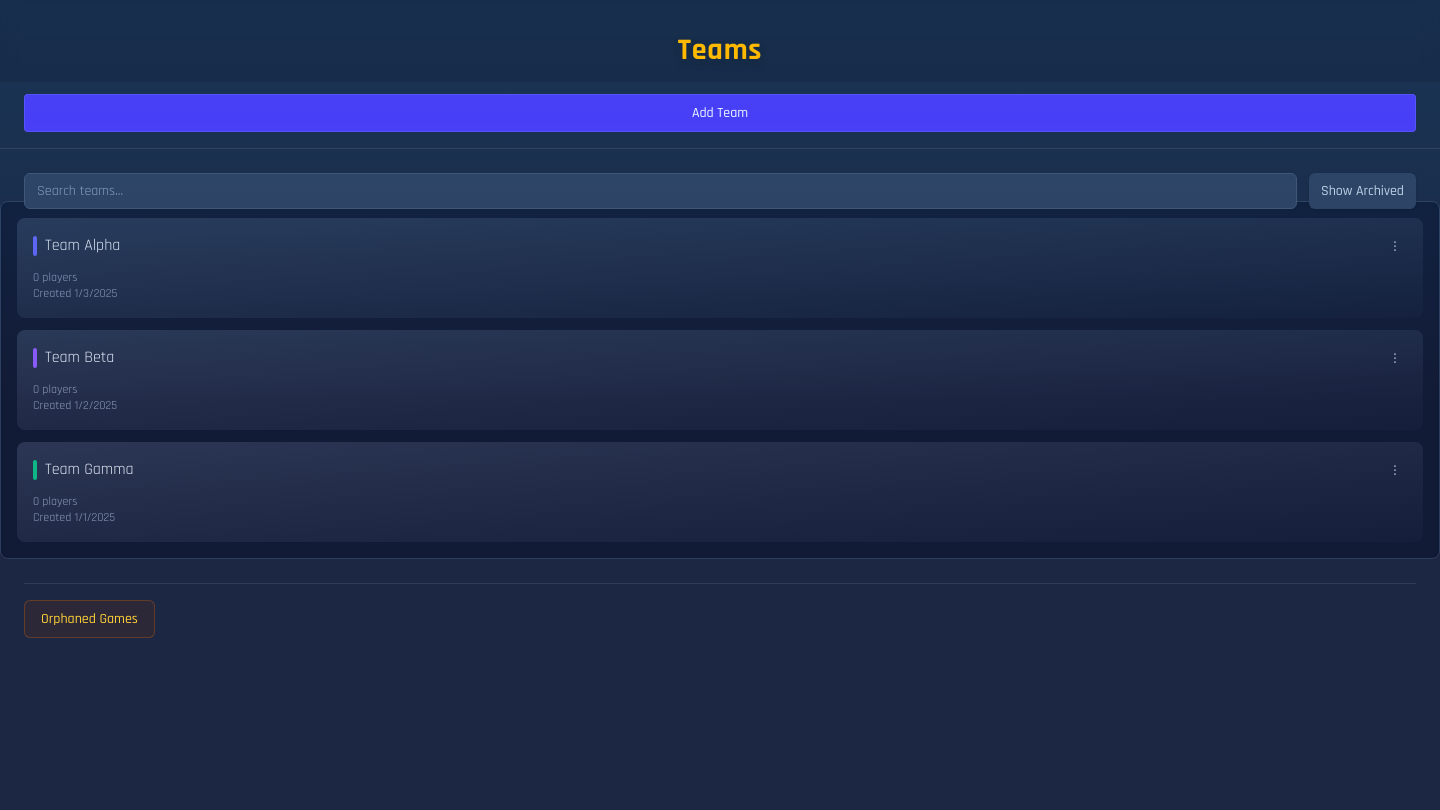
Test case: TeamManagerModal › Team Deletion › shows game count warning when team has games
The image size is (1440, 810).
Click the button named "Team actions" in the row of "Team Alpha" at (1395, 246), box [1383, 234, 1407, 258]
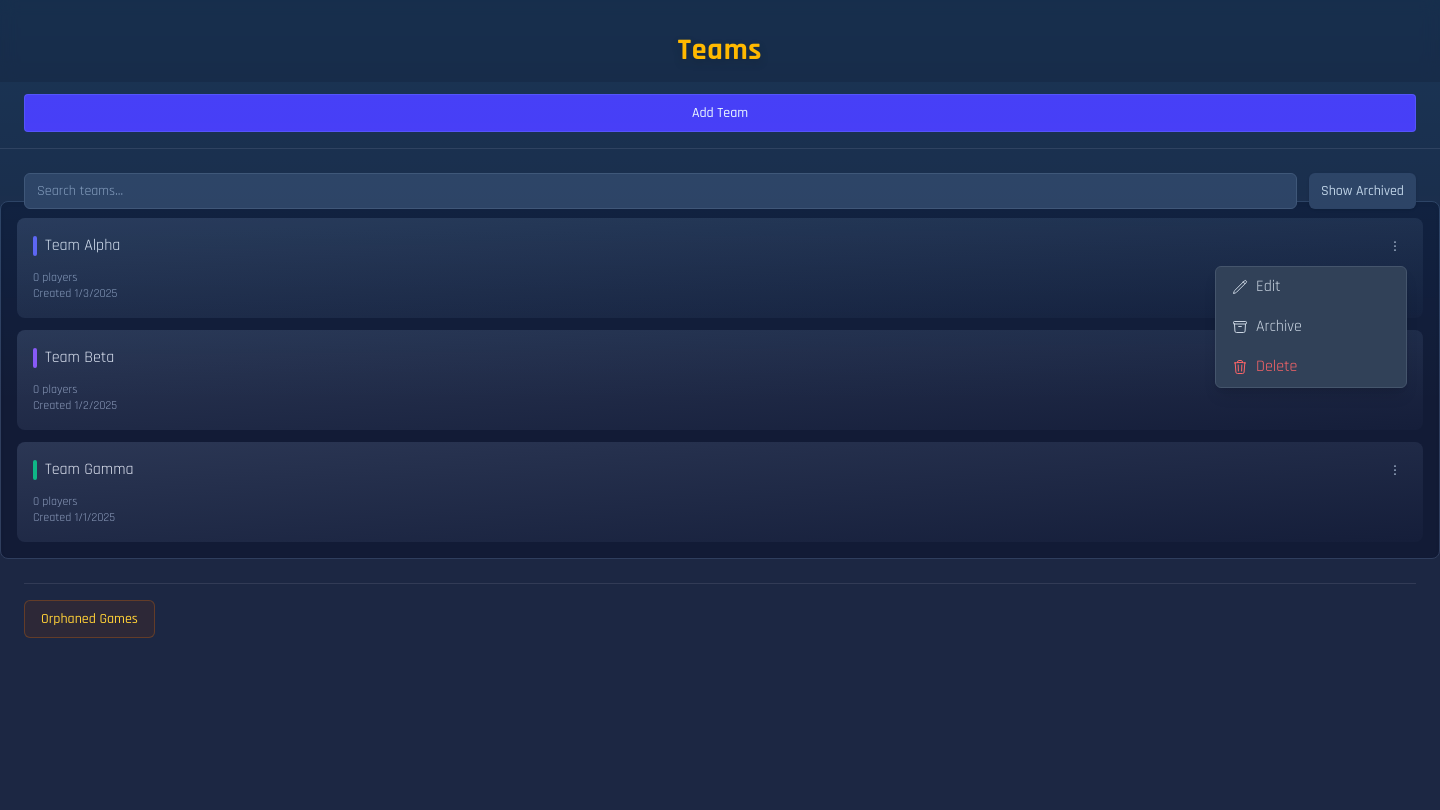
Click the button "Delete" at (1311, 366), box [1216, 346, 1406, 386]
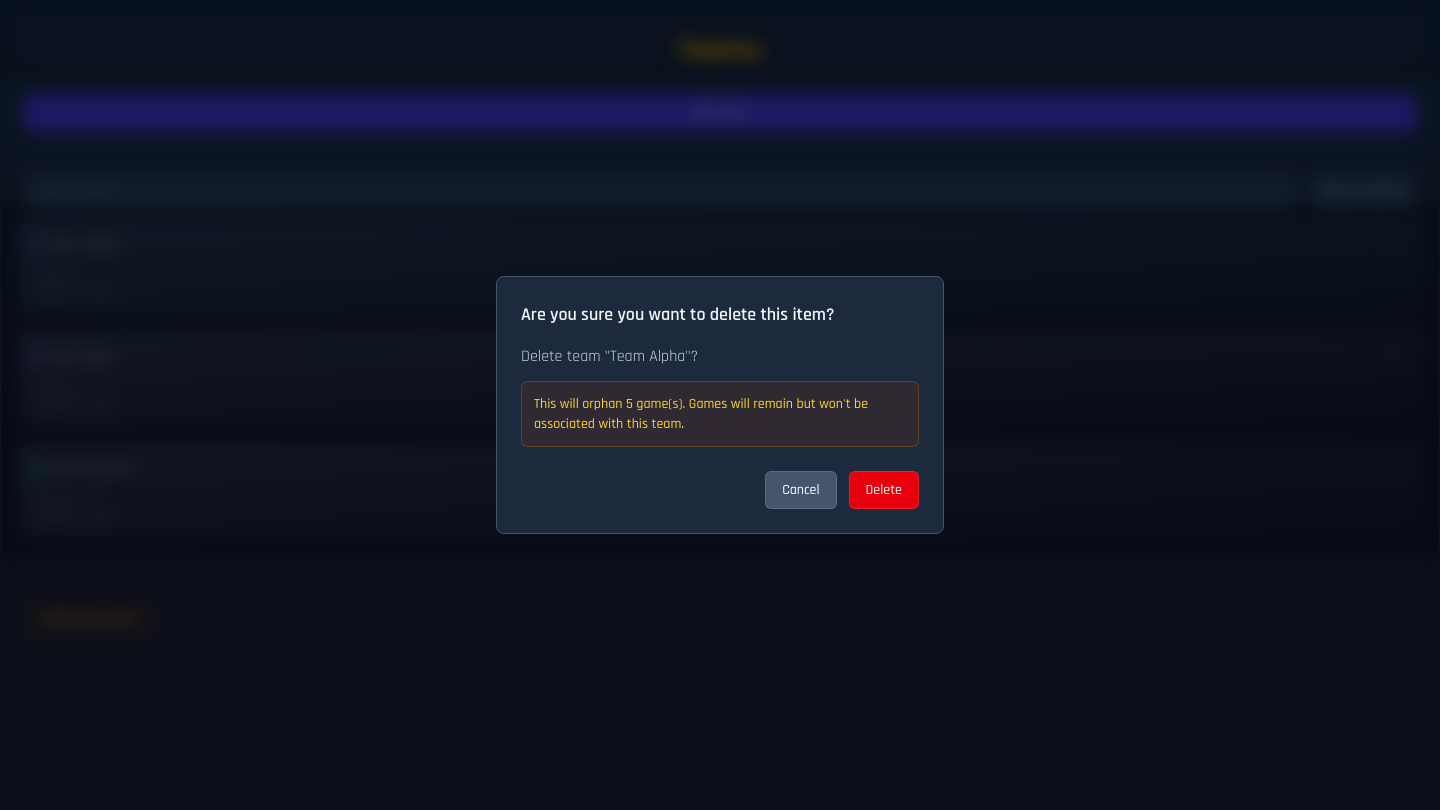
Expected: the text "This will orphan 5 game" is shown, [534, 395, 868, 433]
